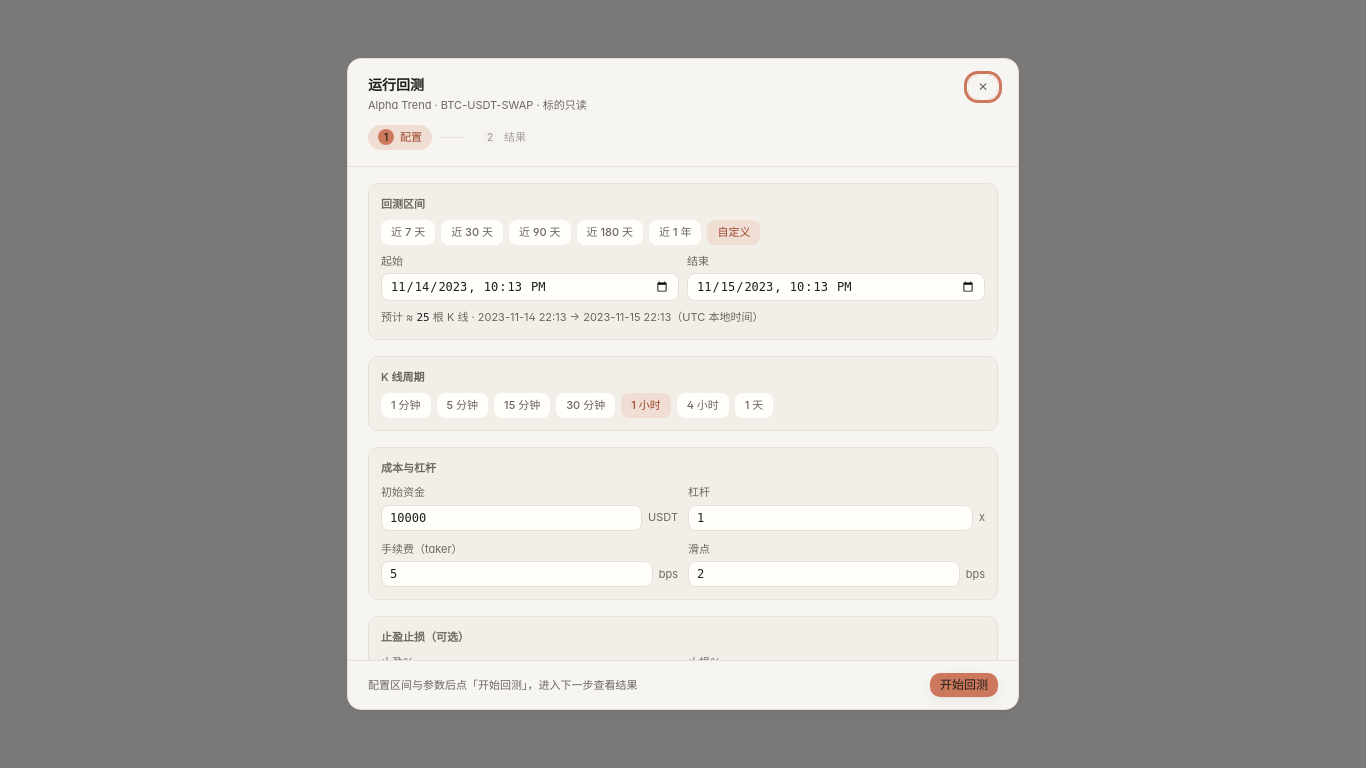
Test: BacktestConfigModal › advances to a dedicated result step with metrics and coverage banner
结果独立成第二步，仅在弹窗内触发运行后才进入（避免跨策略陈旧结果误显）。
Click the button "开始回测".
click(964, 685)  # box [930, 673, 998, 697]
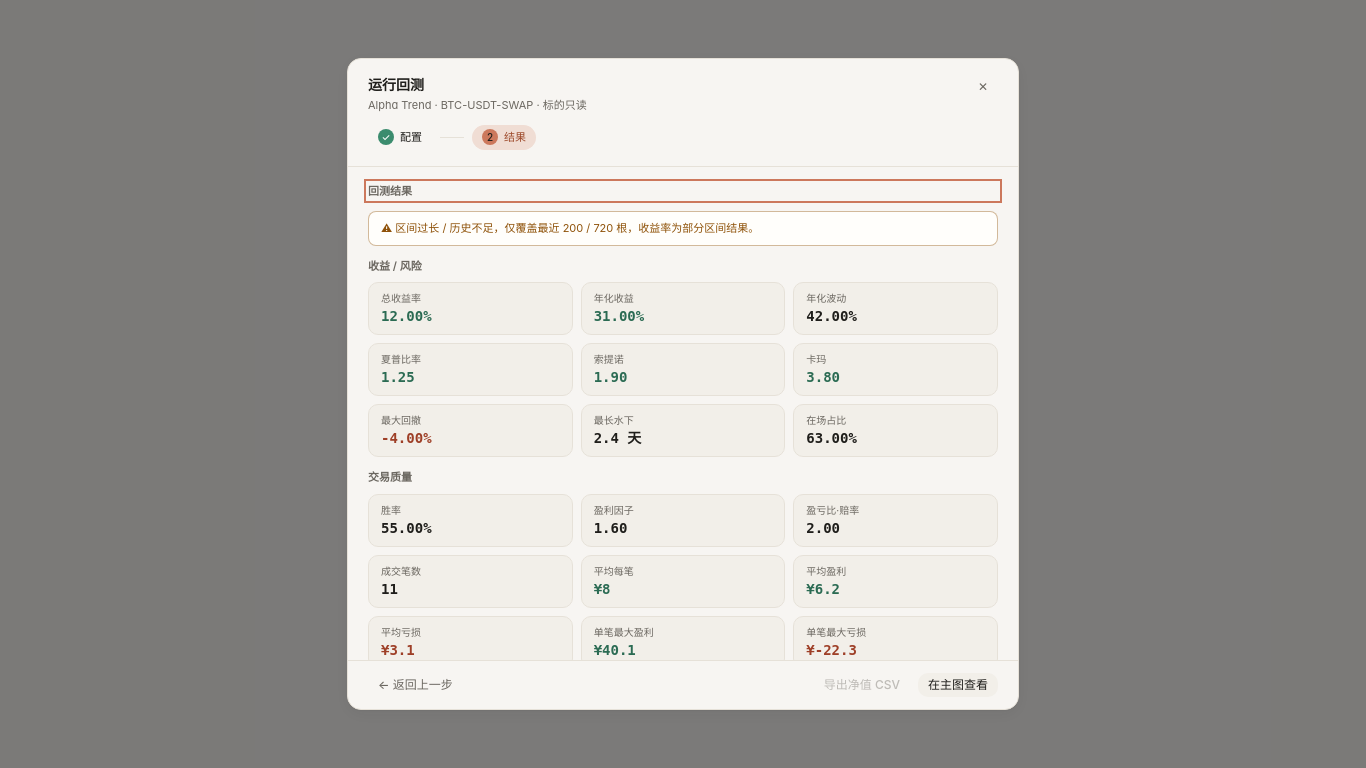
Expected: the heading "回测结果" is shown, [368, 184, 412, 198]
Expected: the text "12.00%" is shown, [381, 308, 432, 324]
Expected: the text "年化收益" is shown, [594, 292, 634, 304]
